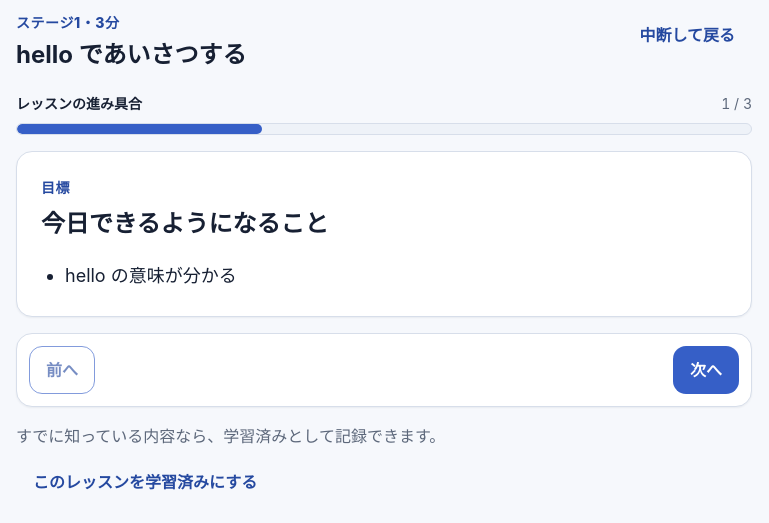
レッスンレンダラー › 学習済みスキップを保存して親処理へ通知する
The image size is (769, 523).
Check: the heading "今日できるようになること" is shown, box [41,209,328,238]
Click the button "このレッスンを学習済みにする" at (145, 482), box [16,458,274,507]
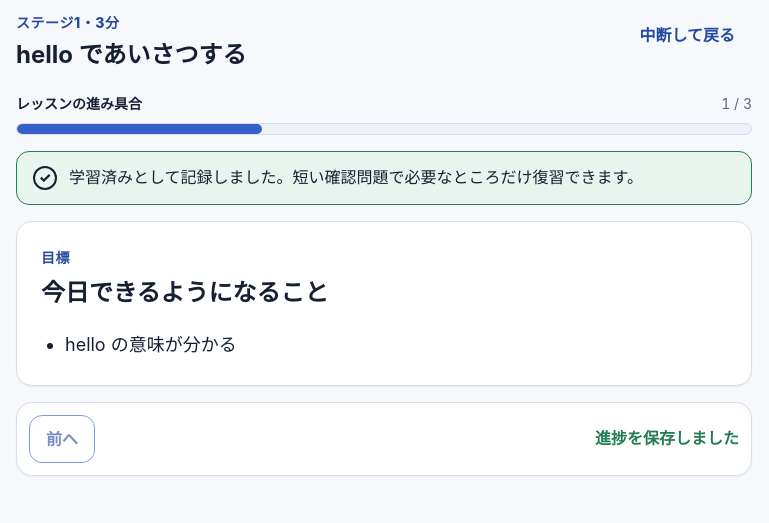
Check: the text "学習済みとして記録しました。短い確認問題で必要なところだけ復習できます。" is shown, box [69,164,735,192]
